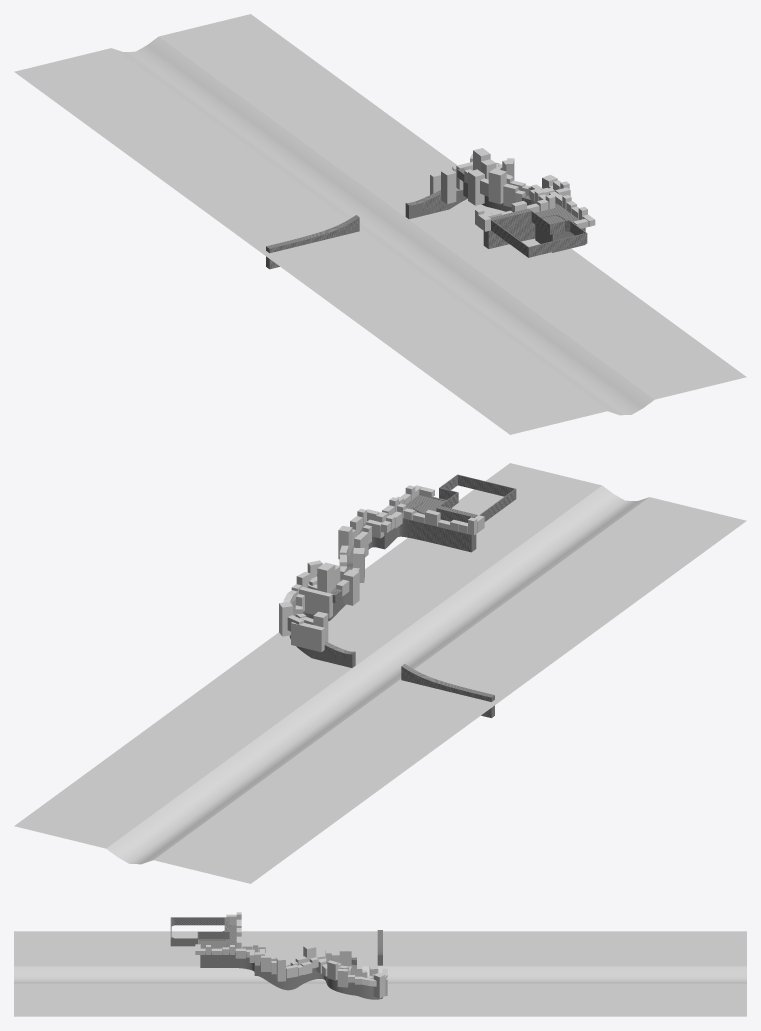
File: street.gltf
The picture shows the model from 3 angles, top to bottom: view 1: azimuth 30°, elevation 25°; view 2: azimuth 150°, elevation 25°; view 3: azimuth 270°, elevation 25°; orthographic projection. The views are drawn at different scales.
Parts seen in each view (by area): view 1: Plane.001, Plane, Cube; view 2: Plane.001, Plane, Cube, Cube.053, Cube.044; view 3: Plane.001, Plane, Cube, Cube.051, Cube.021, Cube.038, Cube.037, Cube.036.
Part boxes in pixels (x1,y1,x2,y2): Plane.001: (14,14,746,434); Plane: (266,182,585,269); Cube: (490,208,587,257); Plane.001: (14,463,746,883); Plane: (289,494,494,717); Cube: (436,474,516,522); Cube.053: (291,622,324,652); Cube.044: (299,586,332,618); Plane.001: (14,931,746,1016); Plane: (198,925,382,999); Cube: (170,917,229,946); Cube.051: (373,972,385,998); Cube.021: (276,956,285,981); Cube.038: (339,948,351,966); Cube.037: (337,968,348,987); Cube.036: (327,960,338,980).
Size of the model in its own units: 551 by 221 by 2000.
1 material, 1 textured.
